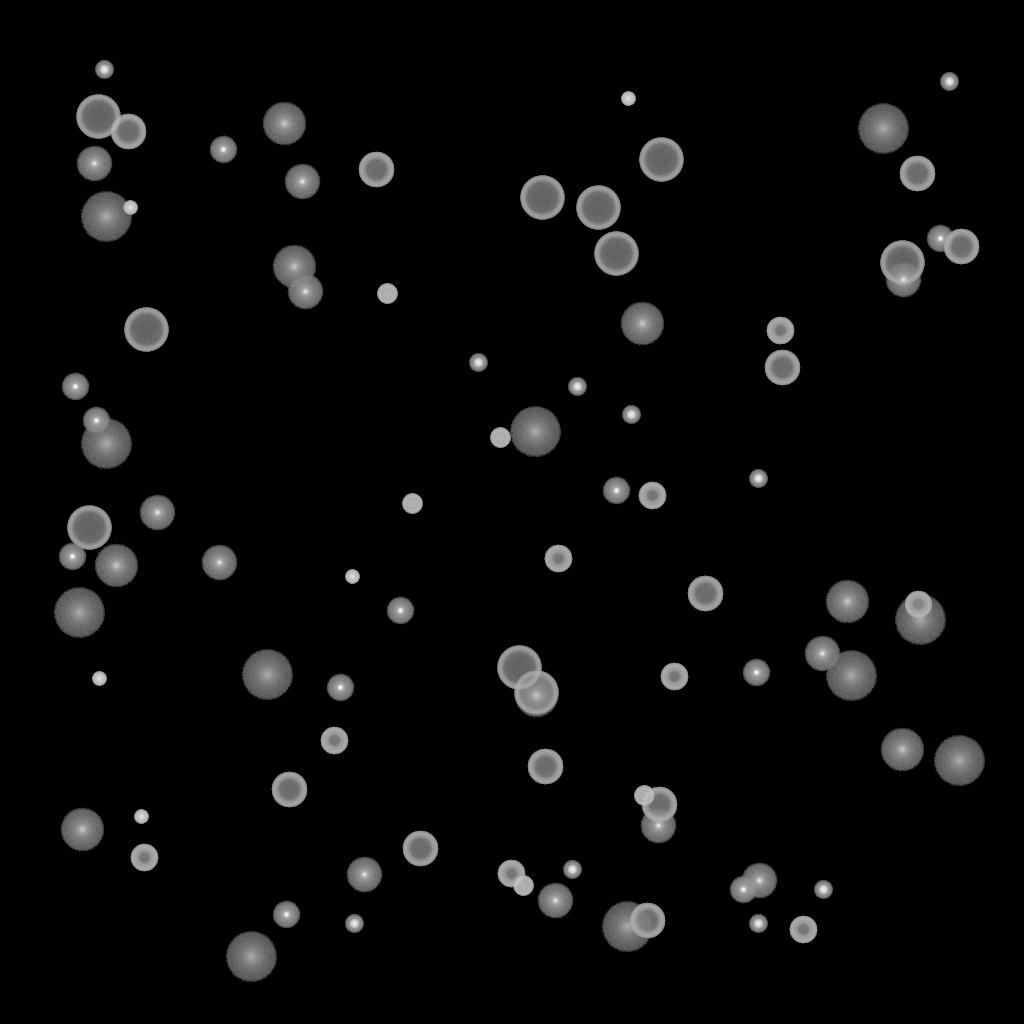depth:-10: (729, 876, 757, 904), (602, 477, 630, 505), (82, 407, 110, 435), (326, 674, 354, 702), (386, 597, 414, 625), (272, 901, 300, 929), (209, 136, 237, 164), (58, 543, 86, 571), (926, 225, 954, 253), (61, 373, 89, 401), (742, 659, 770, 687)
depth:-20: (563, 861, 581, 879), (940, 73, 958, 91), (95, 61, 113, 79), (345, 915, 363, 933), (469, 354, 487, 372), (749, 915, 767, 933), (568, 378, 586, 396), (814, 881, 832, 899), (749, 470, 767, 488), (622, 406, 640, 424)
depth:-30: (92, 672, 106, 686), (345, 570, 359, 584), (621, 92, 635, 106), (134, 810, 148, 824), (123, 201, 137, 215)
depth:-40: (377, 284, 397, 304), (402, 494, 422, 514), (634, 786, 654, 806), (490, 428, 510, 448), (513, 876, 533, 896)
depth:-50: (660, 663, 688, 691), (789, 916, 817, 944), (130, 844, 158, 872), (904, 591, 932, 619), (544, 545, 572, 573), (638, 482, 666, 510), (766, 317, 794, 345), (497, 860, 525, 888), (320, 727, 348, 755)
depth:-60: (271, 772, 307, 808), (527, 749, 563, 785), (110, 114, 146, 150), (629, 903, 665, 939), (402, 831, 438, 867), (899, 156, 935, 192), (358, 152, 394, 188), (943, 229, 979, 265), (641, 787, 677, 823), (687, 576, 723, 612), (764, 350, 800, 386)
depth:-70: (880, 241, 924, 285), (67, 506, 111, 550), (576, 186, 620, 230), (124, 308, 168, 352), (497, 646, 541, 690), (639, 138, 683, 182), (594, 232, 638, 276), (76, 95, 120, 139), (514, 671, 558, 715), (520, 176, 564, 220)
depth:0: (139, 495, 175, 531), (76, 146, 112, 182), (284, 164, 320, 200), (346, 857, 382, 893), (537, 883, 573, 919), (201, 545, 237, 581), (885, 262, 921, 298), (640, 808, 676, 844), (741, 863, 777, 899), (287, 274, 323, 310), (804, 636, 840, 672)
depth:10: (880, 728, 924, 772), (94, 544, 138, 588), (272, 245, 316, 289), (825, 580, 869, 624), (620, 302, 664, 346), (514, 674, 558, 718), (60, 808, 104, 852), (262, 102, 306, 146)
depth:20: (894, 595, 946, 645), (225, 932, 277, 982), (857, 104, 909, 154), (80, 419, 132, 469), (80, 192, 132, 242), (509, 407, 561, 457), (53, 588, 105, 638), (825, 651, 877, 701), (601, 902, 653, 952), (241, 650, 293, 700), (933, 736, 985, 786)
